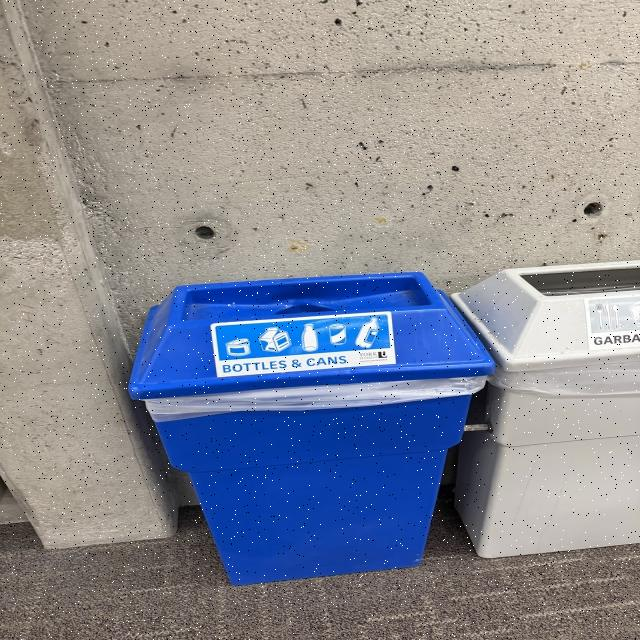Dustbin: (129, 260, 640, 588)
